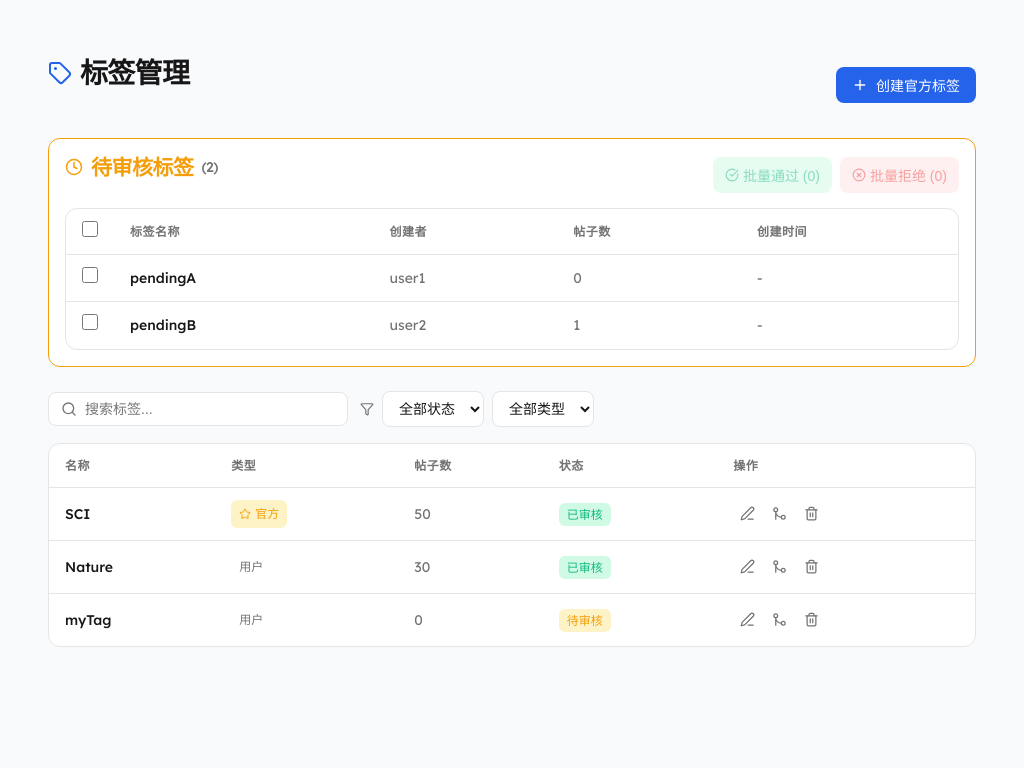
AdminTagsPanel › Actions › should start inline editing on edit button click
Check: the text "SCI" is shown, box [65,505,90,523]
Click the button titled "编辑" in the row of "SCI" at coordinates (747, 514), box [733,500,761,528]
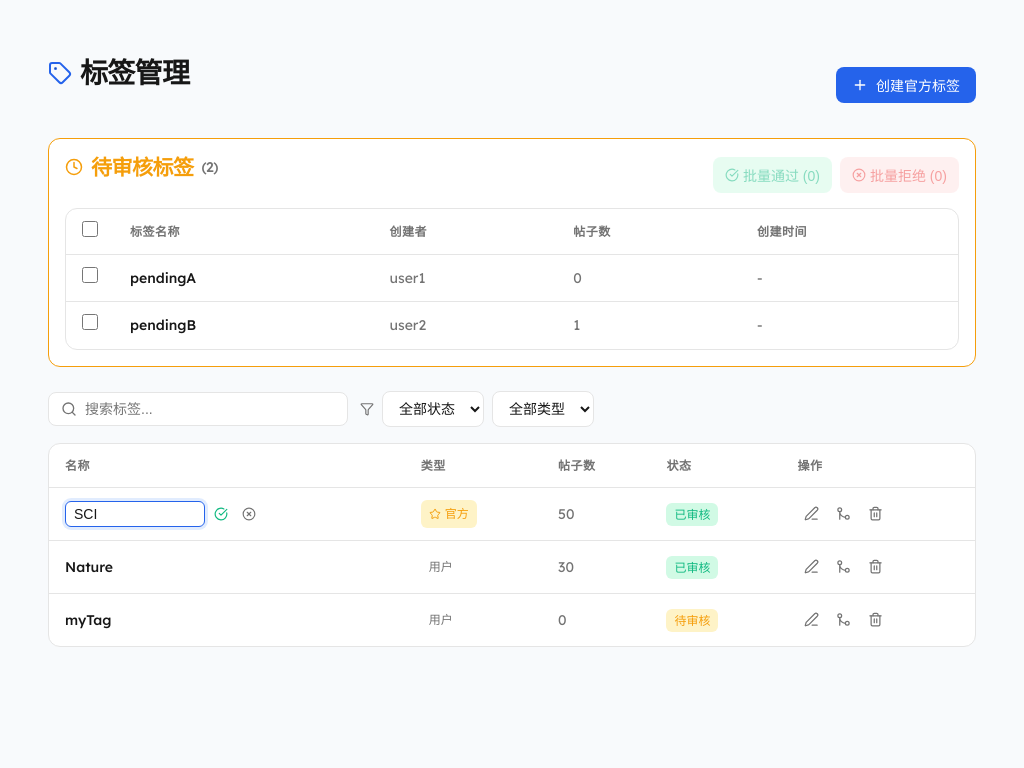
Check: the field showing "SCI" is shown, box [65,501,205,527]
